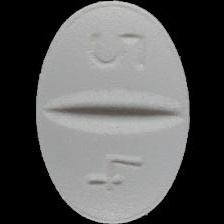65862-374: (0, 0, 224, 224)
